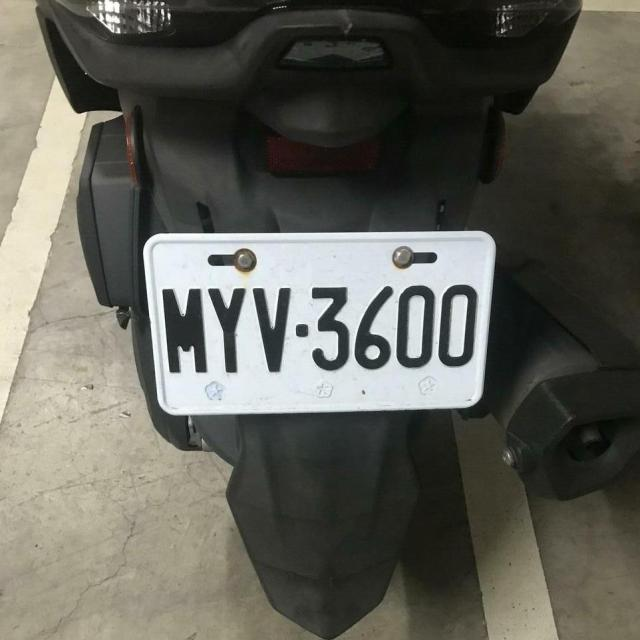W: (138, 226, 499, 421)
